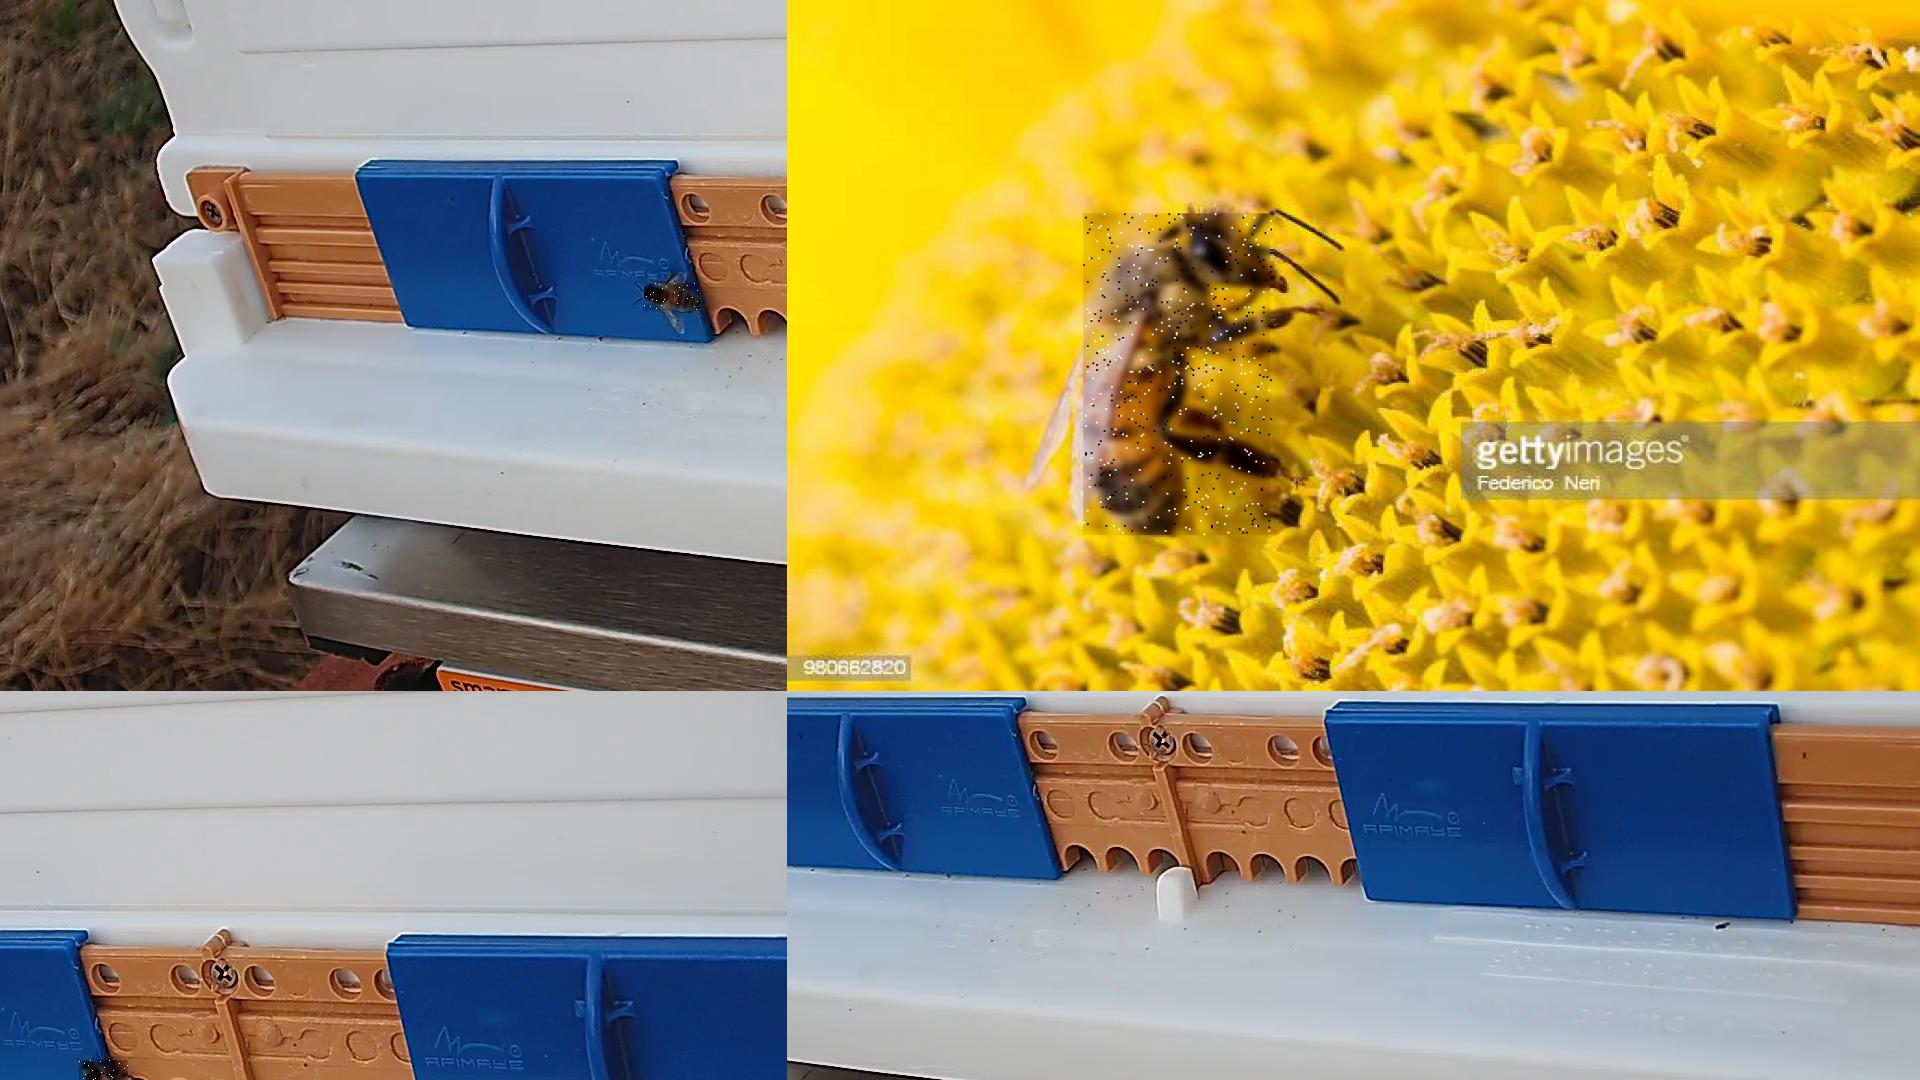bee: (1085, 214, 1275, 537), (645, 284, 700, 313), (79, 1060, 131, 1079)
